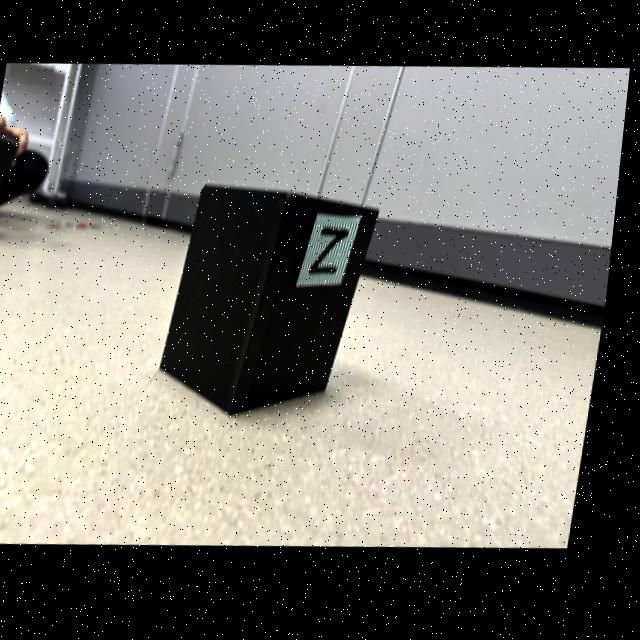Z: (315, 233, 354, 276)
